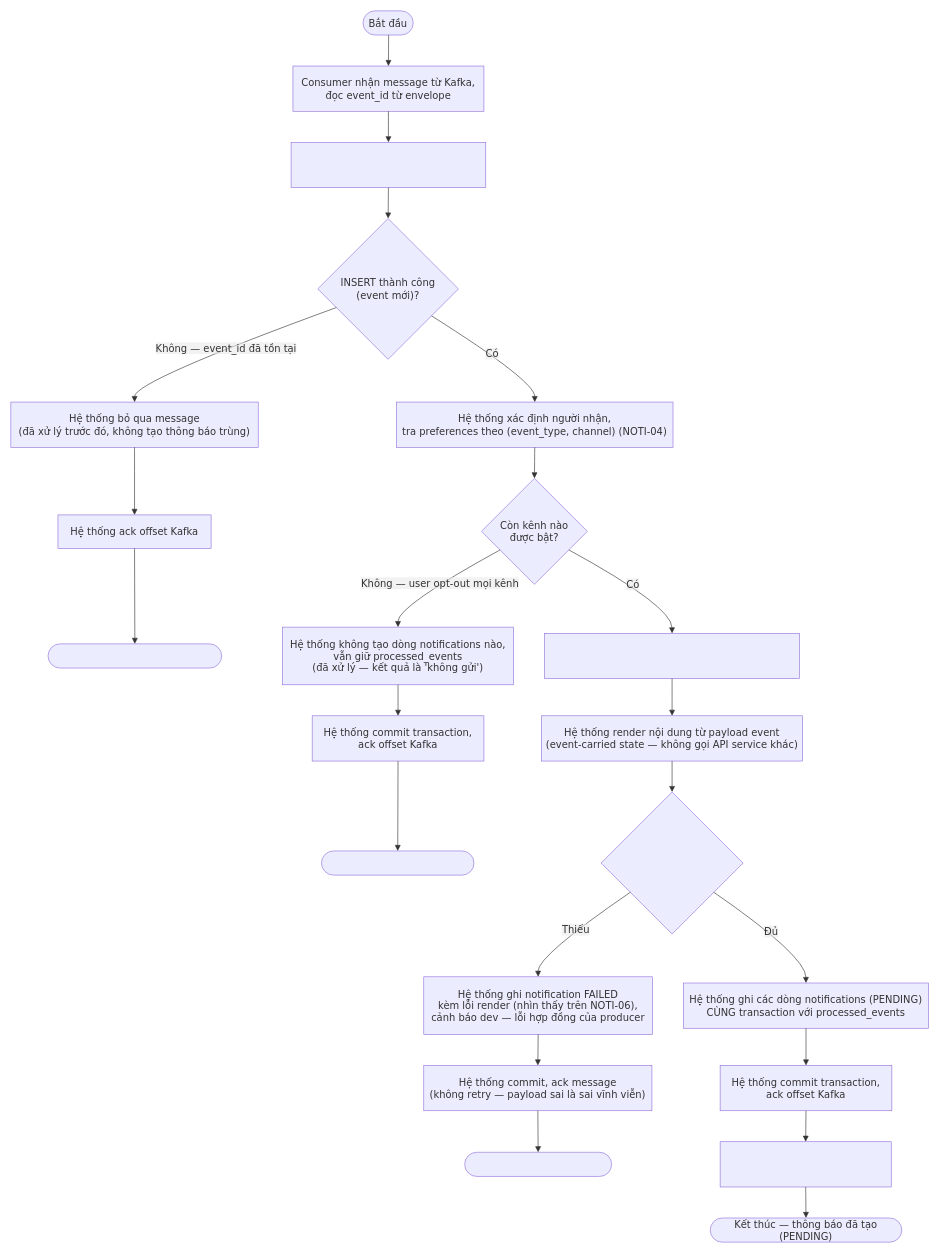
Image size: 939x1253. Some labels were removed from this diagram. Each missing label, with the centre of its shape:
Hệ thống chọn template active theo (template_code, channel, locale) (NOTI-02): point (671, 656)
Hệ thống mở transaction, INSERT processed_events(event_id): point (388, 165)
Kết thúc — bỏ qua message giao lại: point (134, 655)
Kết thúc — FAILED do payload: point (538, 1164)
Kết thúc — đã xử lý, không gửi: point (397, 862)
Payload đủ trường template cần?: point (671, 862)
Việc gửi đi do worker NOTI-03 xử lý bất đồng bộ: point (805, 1164)
